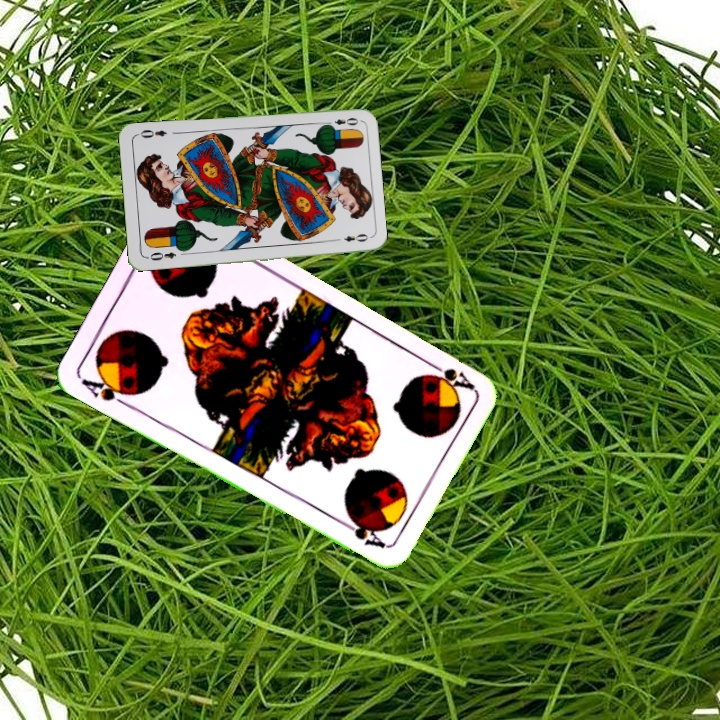EO: (321, 114, 361, 130), (143, 248, 179, 263)
SA: (77, 370, 137, 410), (421, 357, 476, 392)
